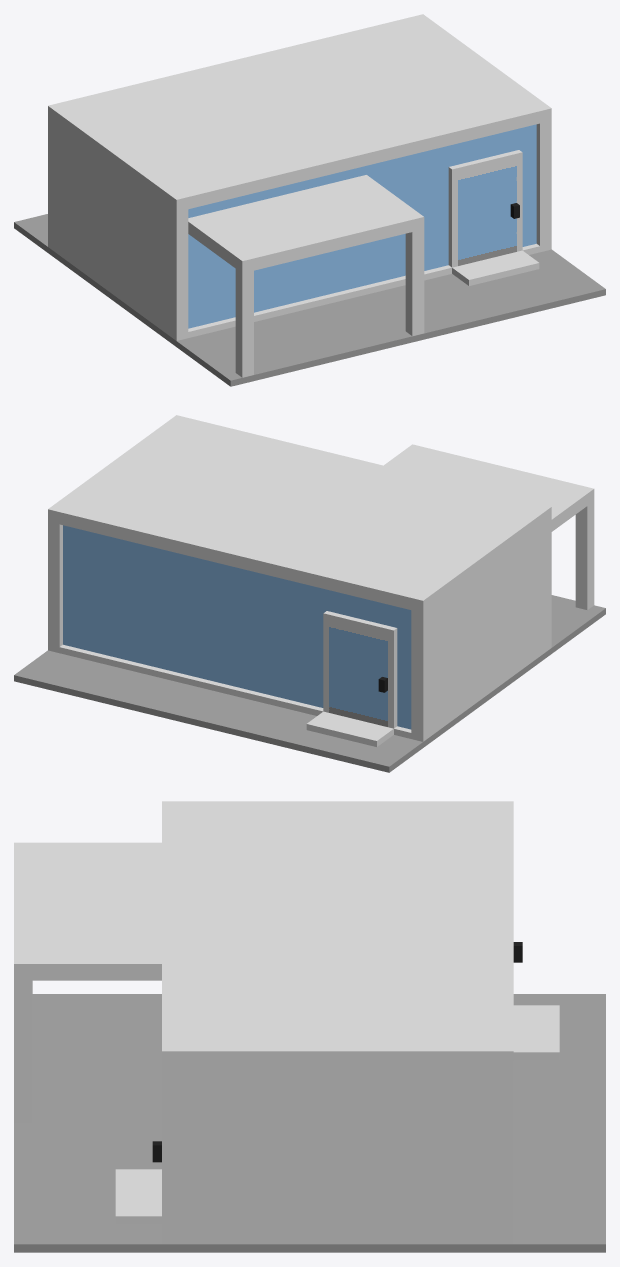
Rendered from obj_house2.fbx.
The picture shows the model from 3 angles, top to bottom: view 1: azimuth 30°, elevation 25°; view 2: azimuth 150°, elevation 25°; view 3: azimuth 270°, elevation 25°; orthographic projection. The views are drawn at different scales.
Visible parts, largest first — view 1: obj_house2; view 2: obj_house2; view 3: obj_house2.
Boxes of the visible parts, left/top/right/bottom form: obj_house2: left=14, top=14, right=605, bottom=386; obj_house2: left=14, top=415, right=605, bottom=772; obj_house2: left=14, top=801, right=605, bottom=1252.
Size of the model in its own units: 6.4 by 6.4 by 2.4.
Materials: 1 (1 with a texture image).
